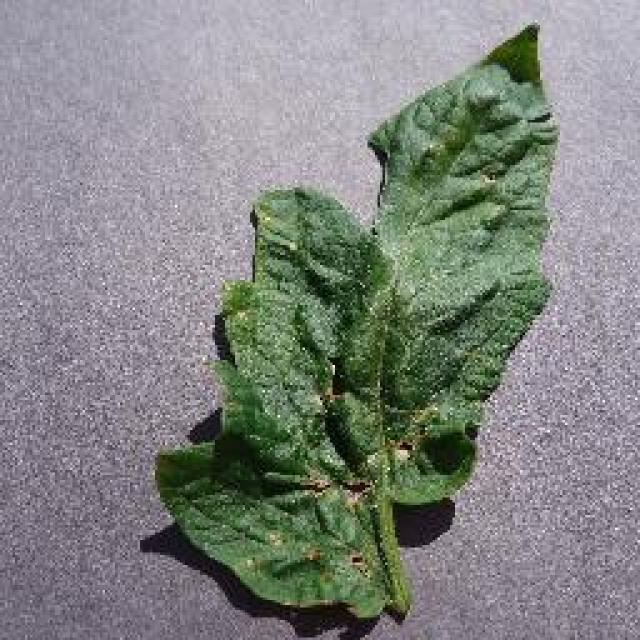Tomato___Target_Spot: (155, 25, 555, 618)
